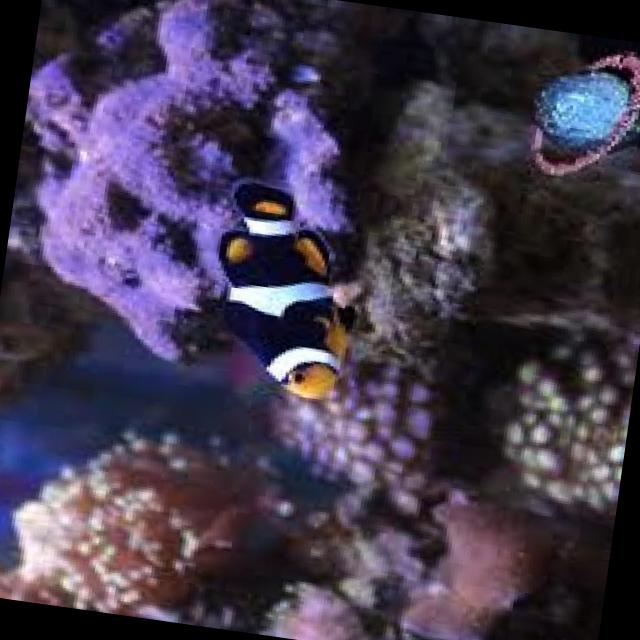ClownFish: (200, 178, 366, 402)
